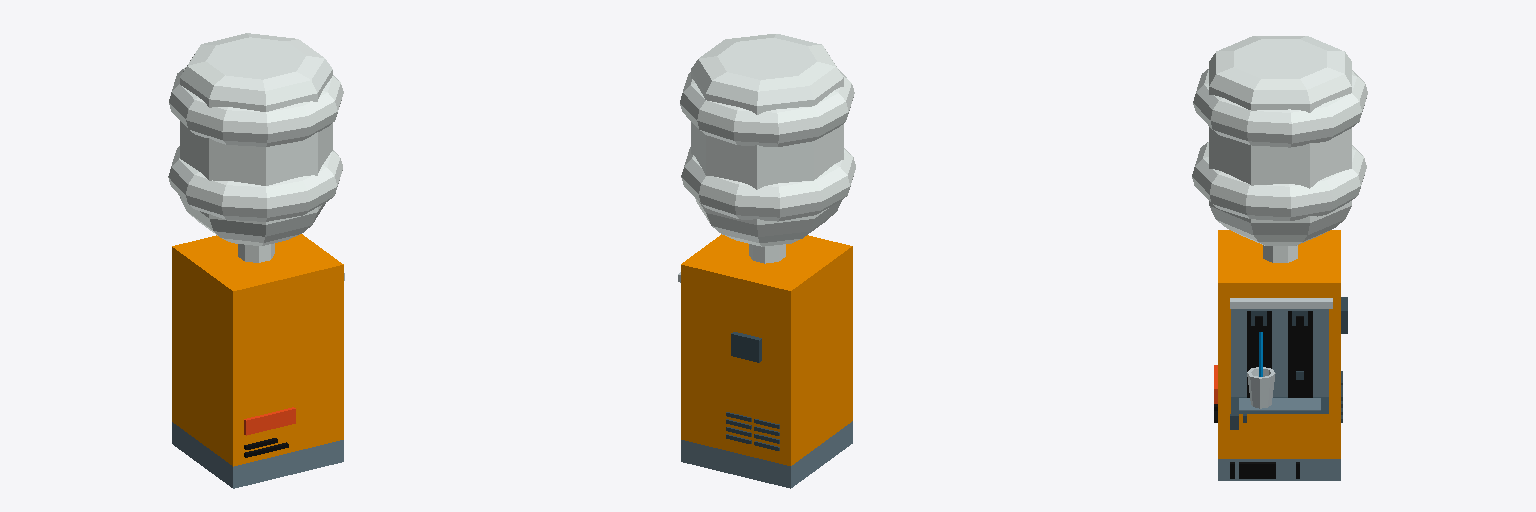
3 renders of one model, left to right at view 1: azimuth 30°, elevation 25°; view 2: azimuth 150°, elevation 25°; view 3: azimuth 270°, elevation 25°, orthographic.
Visible parts, largest first — view 1: group[number redacted], group[number redacted], group[number redacted], group[number redacted], group[number redacted]; view 2: group[number redacted], group[number redacted], group[number redacted], group[number redacted], group[number redacted], group[number redacted]; view 3: group[number redacted], group[number redacted], group[number redacted], group[number redacted], group[number redacted], group[number redacted], group[number redacted], group[number redacted], group[number redacted], group[number redacted].
Part boxes in pixels (bbox=[...]): group[number redacted]: bbox=[172, 234, 343, 488]; group[number redacted]: bbox=[180, 33, 332, 262]; group[number redacted]: bbox=[168, 146, 342, 221]; group[number redacted]: bbox=[169, 67, 343, 146]; group[number redacted]: bbox=[244, 407, 295, 435]; group[number redacted]: bbox=[681, 234, 852, 488]; group[number redacted]: bbox=[691, 34, 843, 263]; group[number redacted]: bbox=[680, 69, 854, 146]; group[number redacted]: bbox=[681, 147, 855, 221]; group[number redacted]: bbox=[726, 412, 779, 450]; group[number redacted]: bbox=[731, 332, 761, 362]; group[number redacted]: bbox=[1218, 230, 1340, 480]; group[number redacted]: bbox=[1209, 36, 1351, 262]; group[number redacted]: bbox=[1193, 69, 1367, 147]; group[number redacted]: bbox=[1192, 142, 1366, 220]; group[number redacted]: bbox=[1288, 311, 1312, 397]; group[number redacted]: bbox=[1230, 298, 1332, 308]; group[number redacted]: bbox=[1247, 311, 1271, 397]; group[number redacted]: bbox=[1247, 367, 1275, 408]; group[number redacted]: bbox=[1239, 398, 1320, 410]; group[number redacted]: bbox=[1239, 462, 1275, 478].
Bounding box in the file's own units: 0.429 × 1.06 × 0.429.